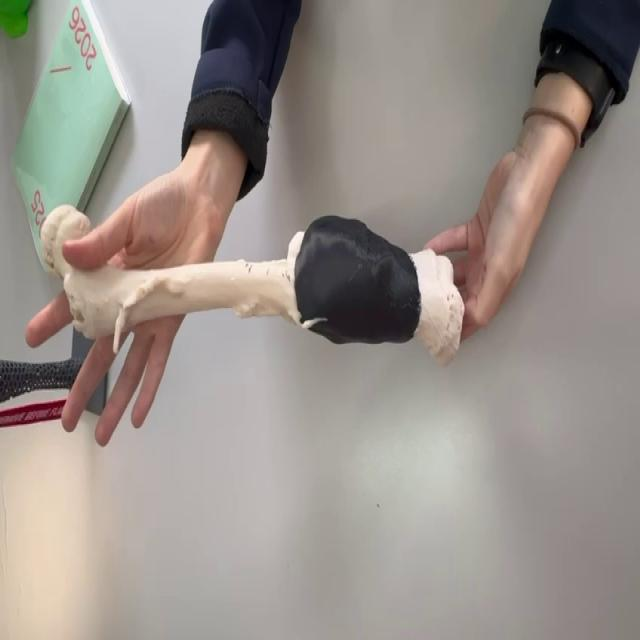bones: (41, 206, 464, 363)
